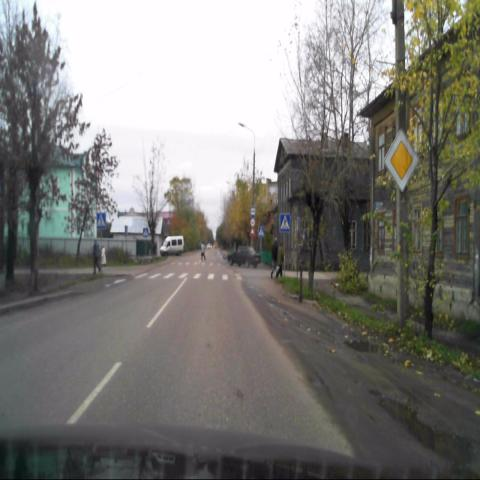2_1: (384, 129, 418, 192)
5_19_1: (279, 213, 289, 231), (96, 211, 106, 229)
